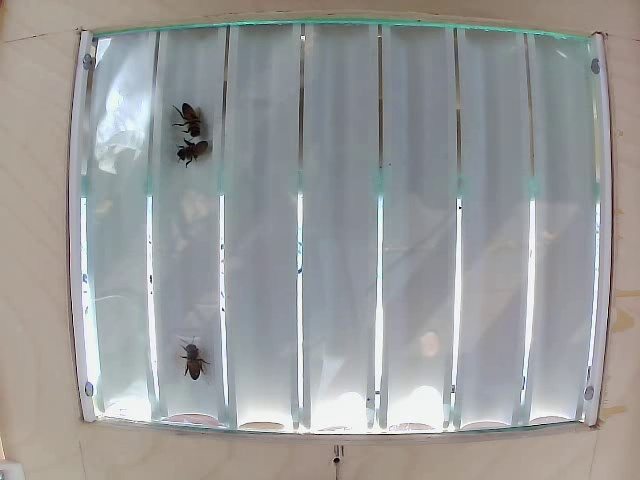bee: (169, 136, 212, 171), (172, 336, 210, 373), (173, 96, 199, 135)
